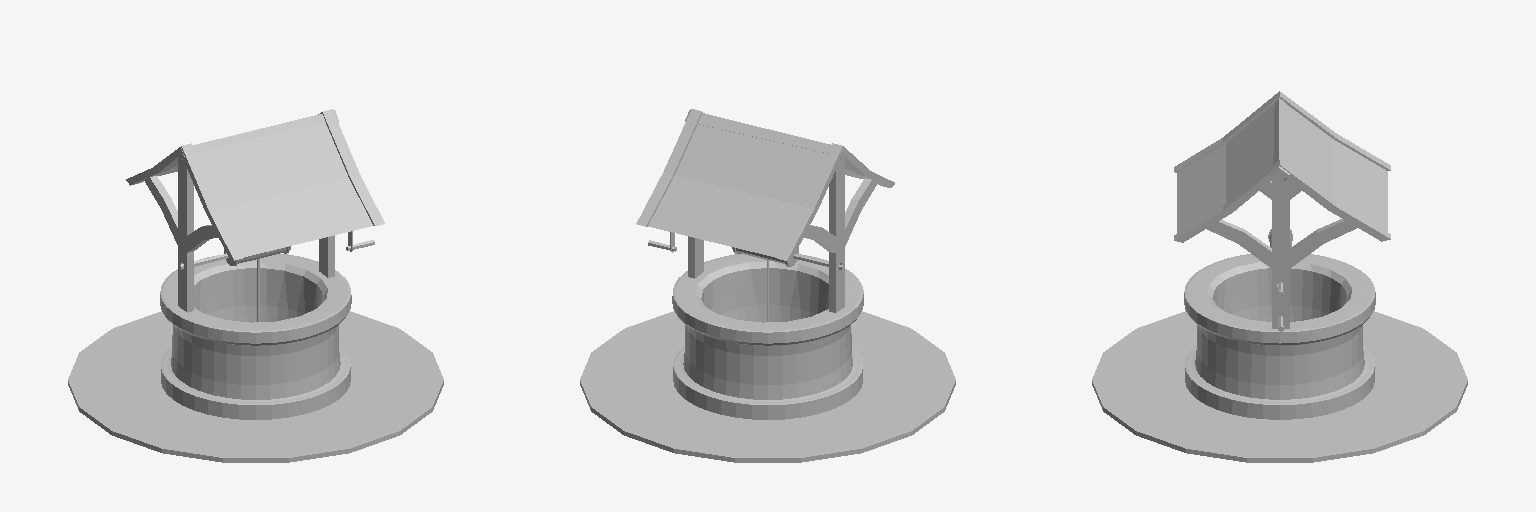
File: well_blender.obj
3 views of the same model, side by side, from view 1: azimuth 30°, elevation 25°; view 2: azimuth 150°, elevation 25°; view 3: azimuth 270°, elevation 25° (orthographic).
Parts seen in each view (by area): view 1: well_base_Cylinder.001, well_lower_Cylinder, well_roof_Cube, well_middle_Cylinder.007; view 2: well_base_Cylinder.001, well_lower_Cylinder, well_roof_Cube, well_middle_Cylinder.007; view 3: well_base_Cylinder.001, well_lower_Cylinder, well_roof_Cube, well_middle_Cylinder.007.
Boxes of the visible parts, box(x1,y1,x2,y2) form: well_base_Cylinder.001: box(68, 311, 443, 462); well_lower_Cylinder: box(160, 253, 351, 419); well_roof_Cube: box(126, 109, 384, 260); well_middle_Cylinder.007: box(144, 157, 374, 321); well_base_Cylinder.001: box(580, 311, 955, 462); well_lower_Cylinder: box(672, 254, 863, 419); well_roof_Cube: box(636, 109, 894, 260); well_middle_Cylinder.007: box(648, 157, 877, 321); well_base_Cylinder.001: box(1092, 311, 1467, 462); well_lower_Cylinder: box(1184, 254, 1375, 419); well_roof_Cube: box(1174, 91, 1390, 242); well_middle_Cylinder.007: box(1207, 179, 1356, 331).
Bounding box in the file's own units: 8.52 × 6.52 × 8.65.